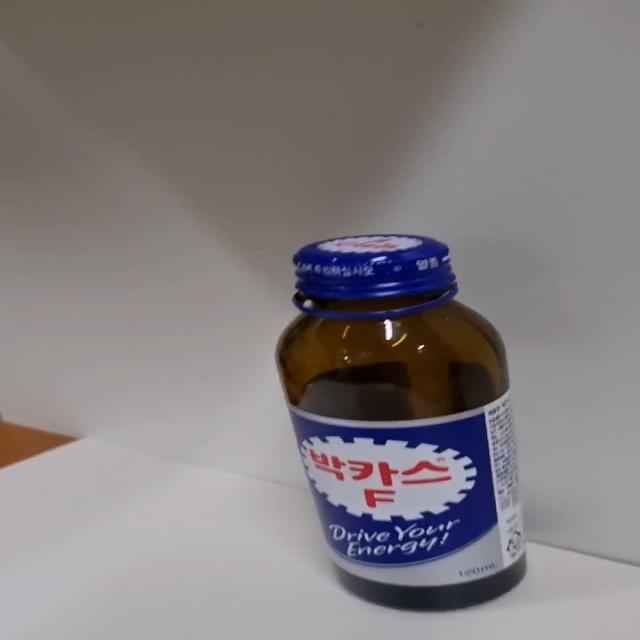Glass: (274, 234, 526, 614)
